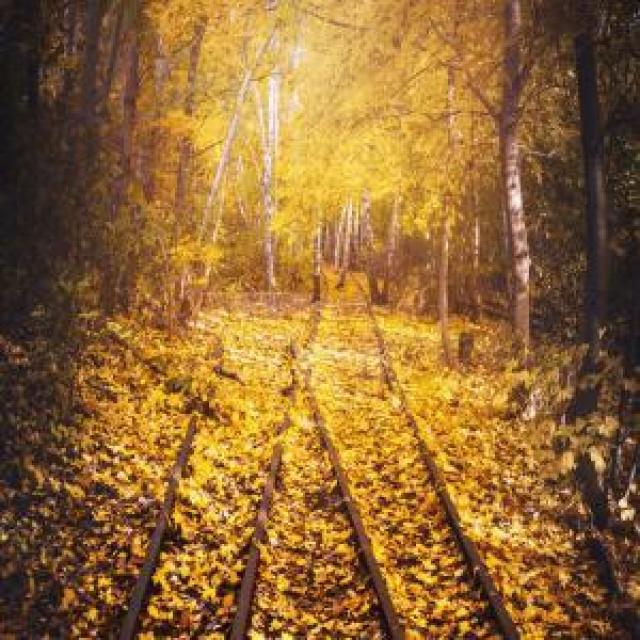rail: (214, 265, 546, 640), (92, 297, 425, 640)
